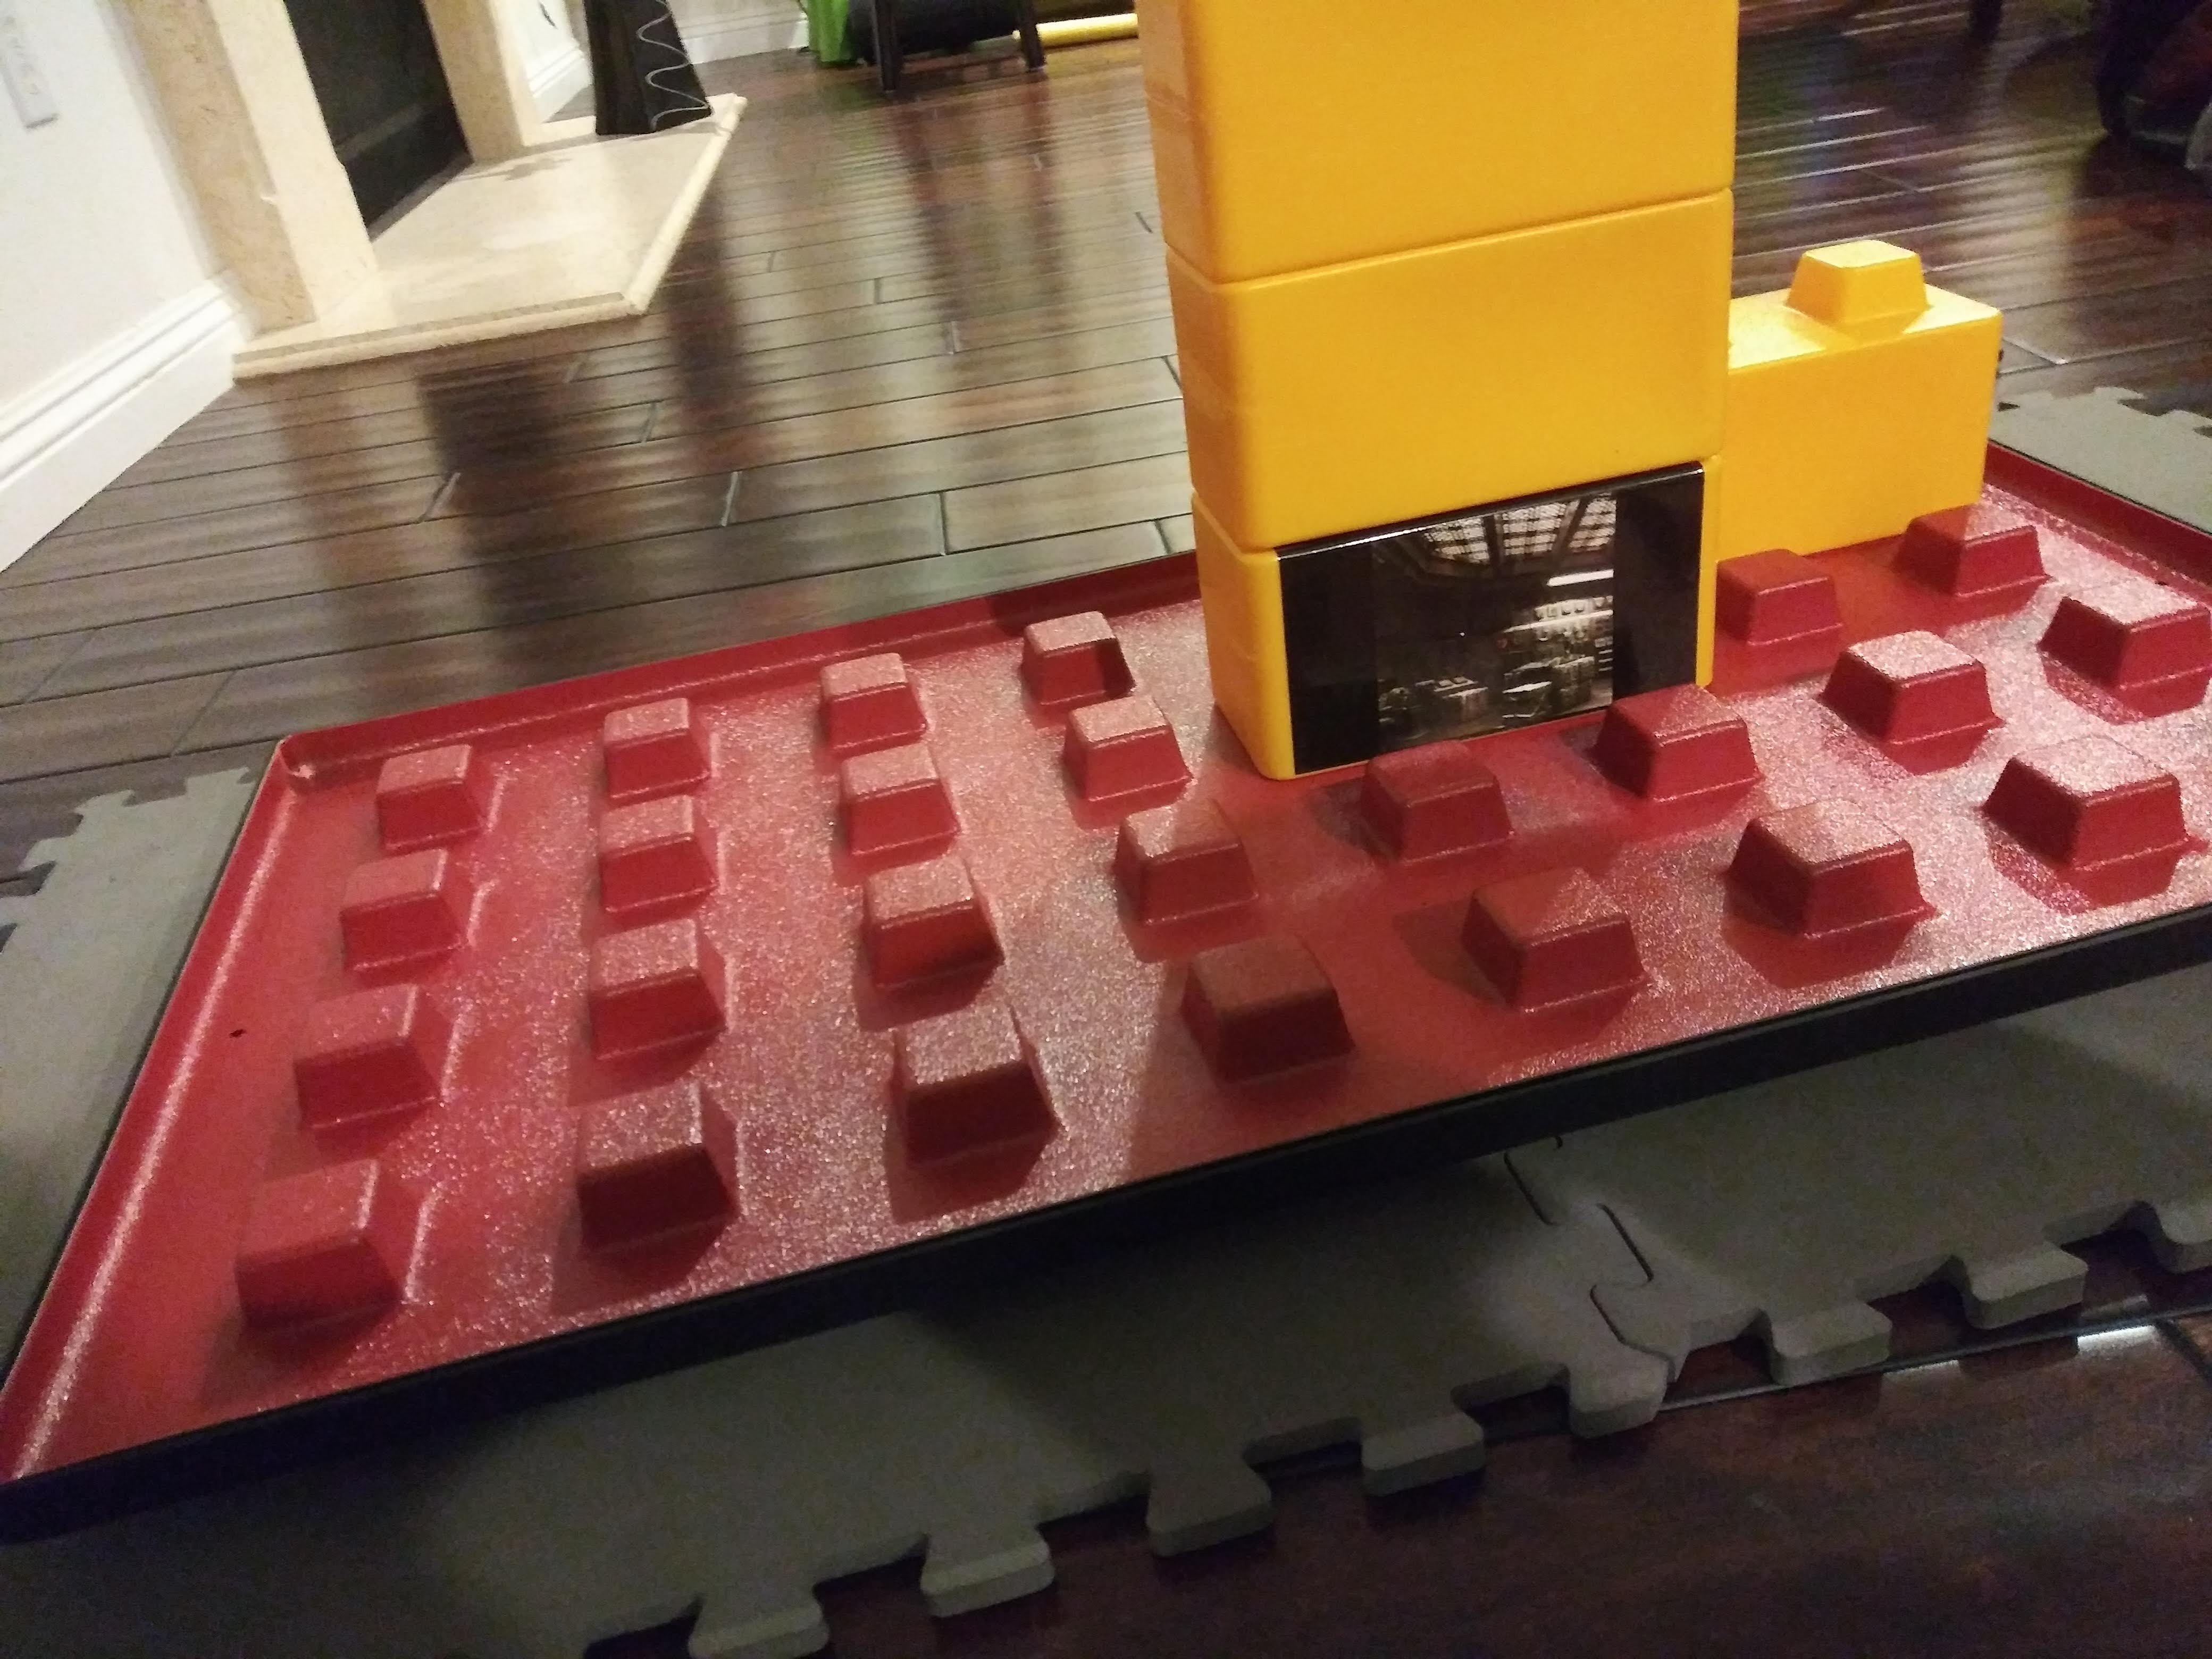red foundation: (155, 474, 2170, 1248)
